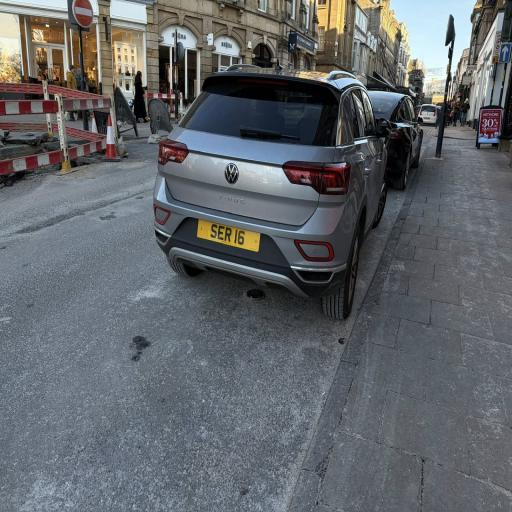numberplates: (197, 220, 260, 252), (424, 117, 430, 119)
